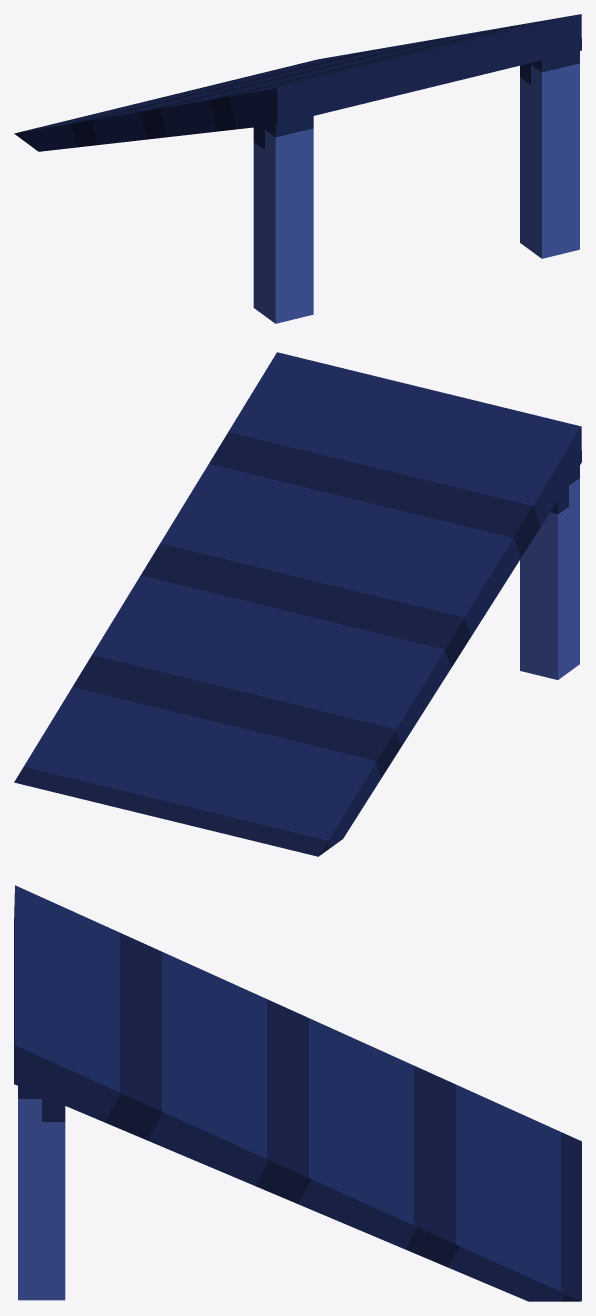
Rendered from rampa.fbx.
3 renders of one model, top to bottom at view 1: azimuth 30°, elevation 25°; view 2: azimuth 150°, elevation 25°; view 3: azimuth 270°, elevation 25°, orthographic. The views are drawn at different scales.
Parts seen in each view (by area): view 1: group; view 2: group; view 3: group.
Part boxes in pixels (x1,y1,x2,y2): group: (14, 14, 581, 323); group: (14, 352, 581, 856); group: (14, 885, 581, 1301).
Size of the model in its own units: 50 by 37.36 by 74.99.
Materials: 1 (1 with a texture image).
